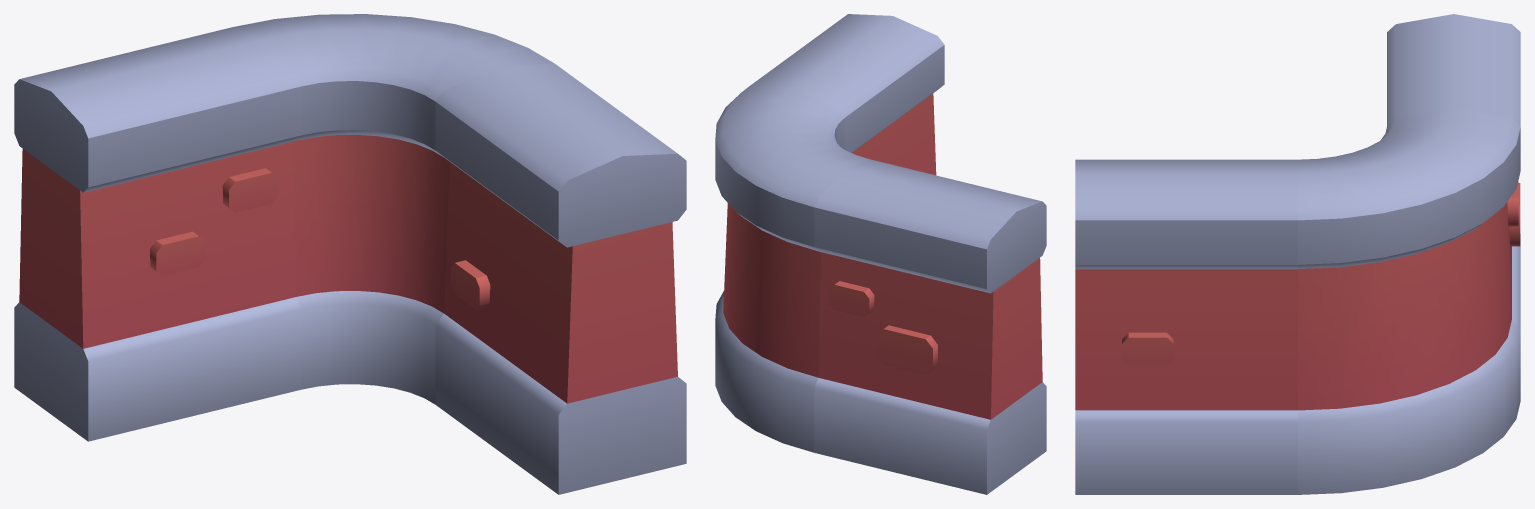
The model's file is brick-wall-curve-small.glb.
3 renders of one model, left to right at view 1: azimuth 30°, elevation 25°; view 2: azimuth 150°, elevation 25°; view 3: azimuth 270°, elevation 25°, orthographic. The views are drawn at different scales.
Parts seen in each view (by area): view 1: brick-wall-curve-small; view 2: brick-wall-curve-small; view 3: brick-wall-curve-small.
Boxes of the visible parts, box(x1,y1,x2,y2) form: brick-wall-curve-small: box(14, 14, 686, 494); brick-wall-curve-small: box(715, 14, 1046, 494); brick-wall-curve-small: box(1075, 14, 1520, 494).
Size of the model in its own units: 20 by 14.5 by 20.
Materials: 1 (1 with a texture image).
